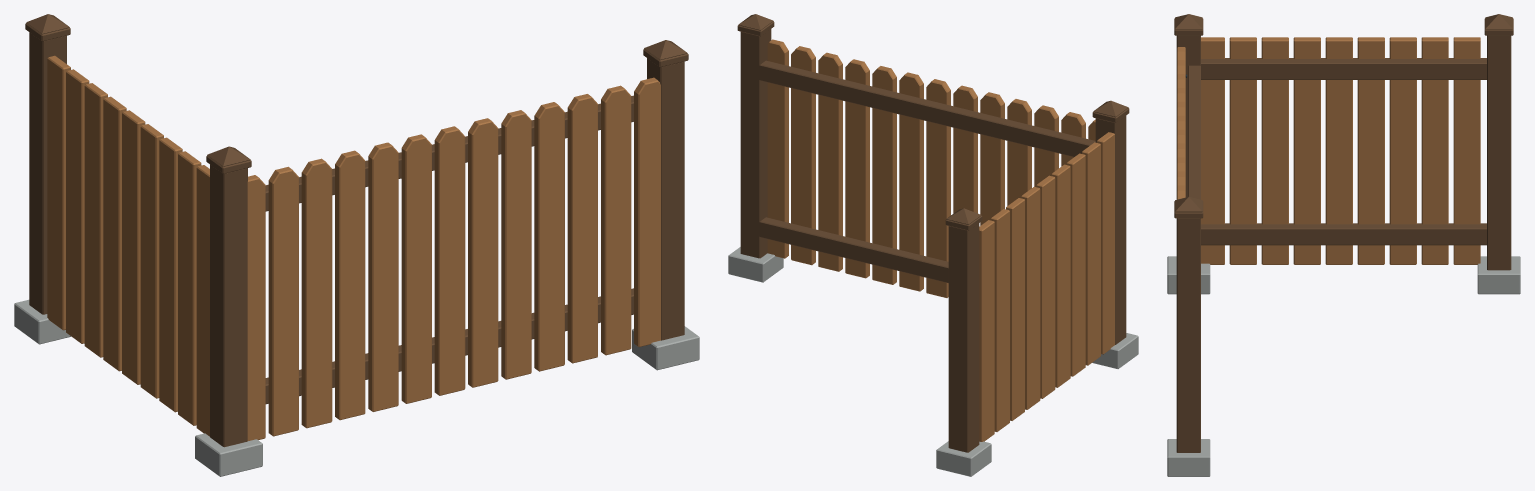
Rendered from b19_cedar_fence_inside_corner.glb.
3 views of the same model, side by side, from view 1: azimuth 30°, elevation 25°; view 2: azimuth 150°, elevation 25°; view 3: azimuth 270°, elevation 25° (orthographic). The views are drawn at different scales.
Visible parts, largest first — view 1: b19_cedar_fence_inside_corner; view 2: b19_cedar_fence_inside_corner; view 3: b19_cedar_fence_inside_corner.
Boxes of the visible parts, left/top/right/bottom form: b19_cedar_fence_inside_corner: left=14, top=14, right=699, bottom=476; b19_cedar_fence_inside_corner: left=728, top=14, right=1138, bottom=476; b19_cedar_fence_inside_corner: left=1167, top=14, right=1520, bottom=476.
Size of the model in its own units: 2.53 by 1.59 by 1.88.
